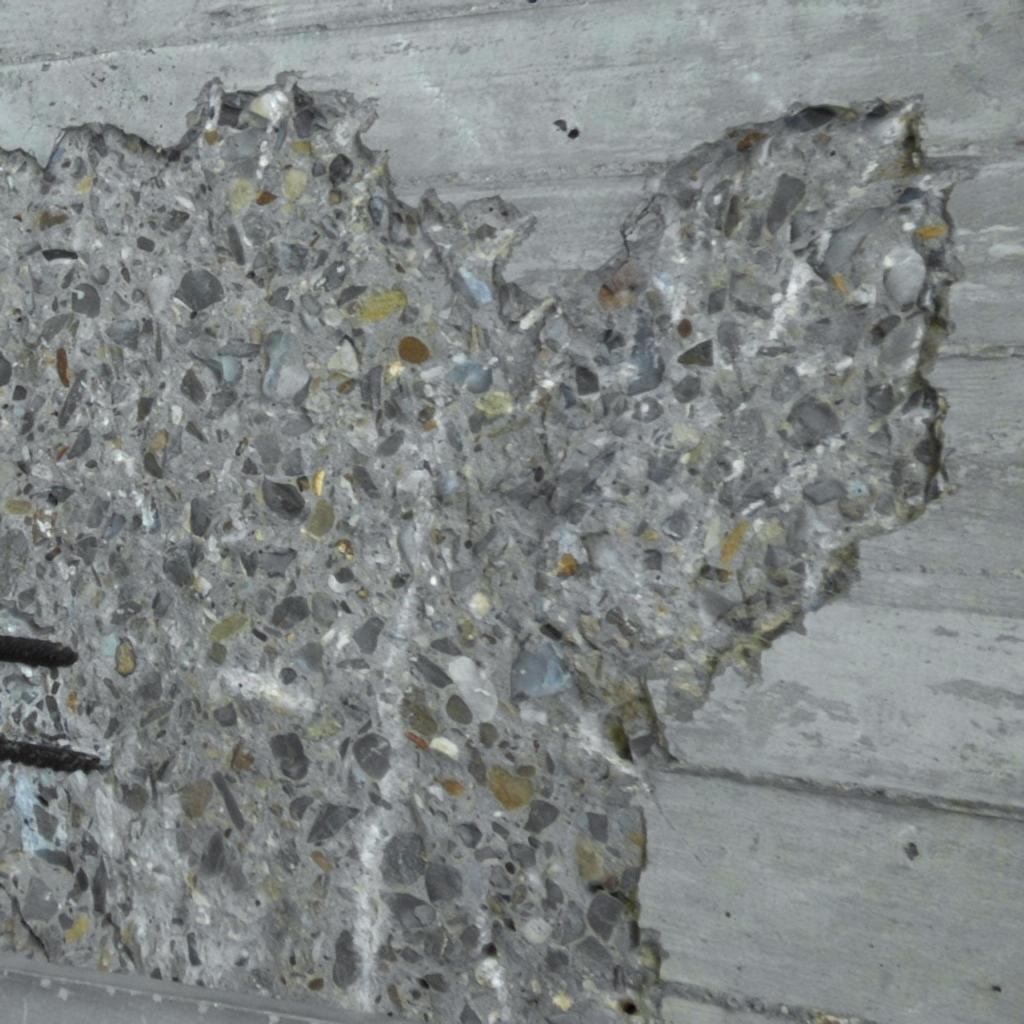exposed_rebar: (0, 737, 104, 772), (0, 635, 78, 669)
spalling: (0, 78, 956, 1024)
